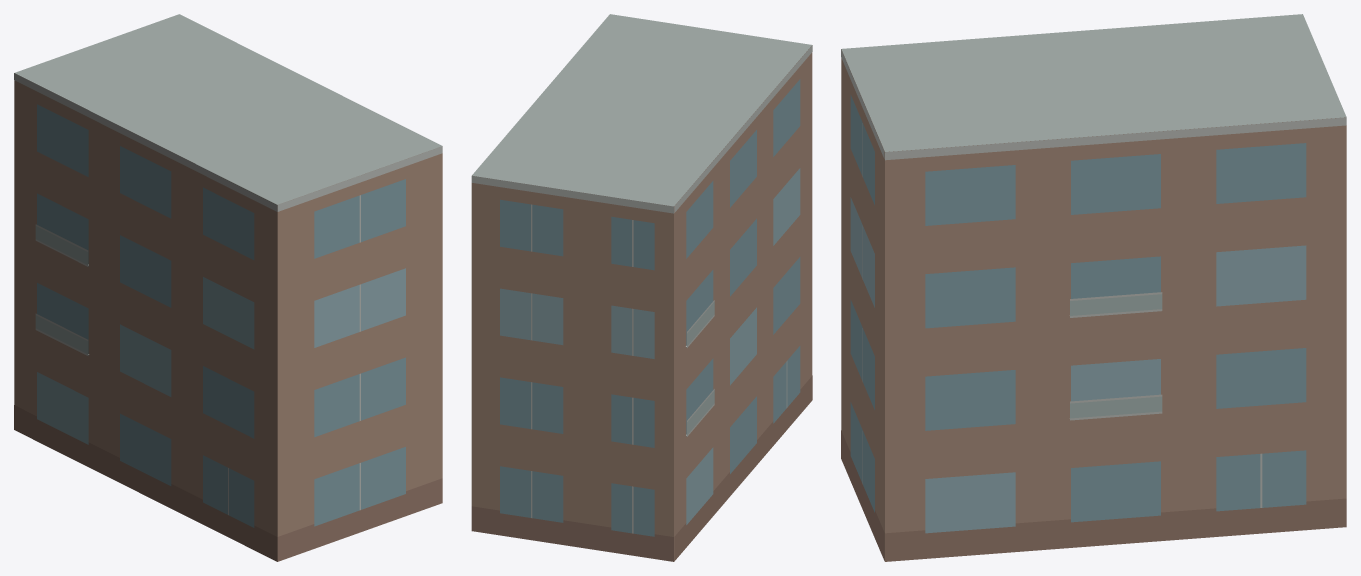
Rendered from residential-b3cd4508-1163-43b6-a7a6-f52cda50b07e.glb.
3 renders of one model, left to right at view 1: azimuth 30°, elevation 25°; view 2: azimuth 150°, elevation 25°; view 3: azimuth 270°, elevation 25°, orthographic. The views are drawn at different scales.
Visible parts, largest first — view 1: residential-b3cd4508-1163-43b6-a7a6-f52cda50b07e.tmp; view 2: residential-b3cd4508-1163-43b6-a7a6-f52cda50b07e.tmp; view 3: residential-b3cd4508-1163-43b6-a7a6-f52cda50b07e.tmp.
Part boxes in pixels (box(x1,y1,x2,y2)): residential-b3cd4508-1163-43b6-a7a6-f52cda50b07e.tmp: box(14, 14, 442, 561); residential-b3cd4508-1163-43b6-a7a6-f52cda50b07e.tmp: box(471, 14, 812, 561); residential-b3cd4508-1163-43b6-a7a6-f52cda50b07e.tmp: box(841, 14, 1346, 561).
Size of the model in its own units: 8.82 by 12.2 by 13.65.
